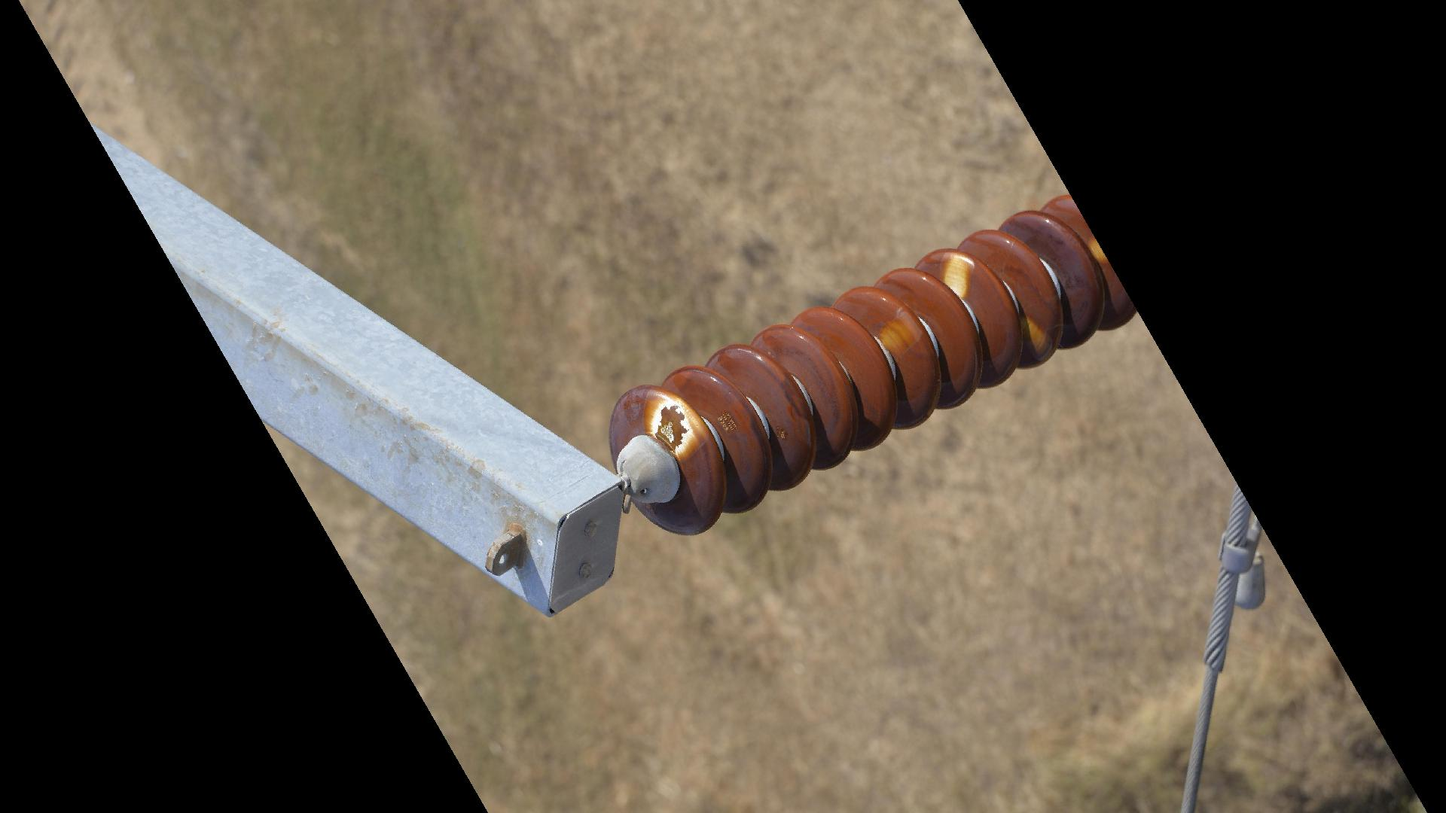insulator: (602, 188, 1141, 542)
insulator_flashover: (641, 385, 711, 461), (876, 303, 929, 361), (1015, 316, 1057, 369), (940, 247, 977, 302)
